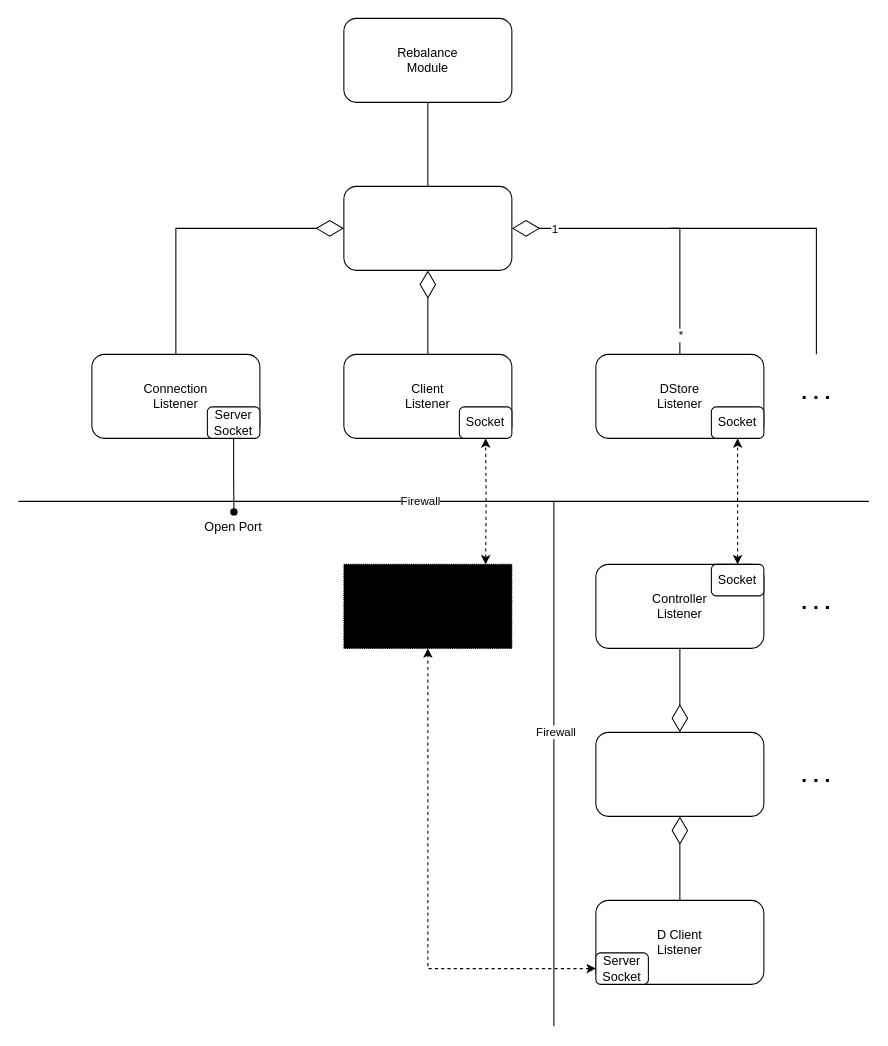
This 888x1046 diagram has some shape labels left out. Each missing label, with the centre of its shape:
Client: pixel 427 605
Controller: pixel 427 227
DStore: pixel 679 773
